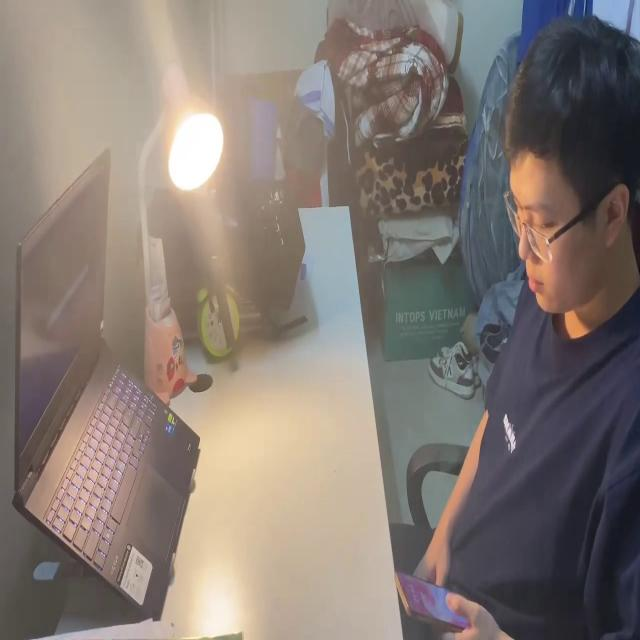laptop: (13, 137, 201, 621)
phone: (394, 568, 466, 630)
student: (395, 12, 640, 639)
